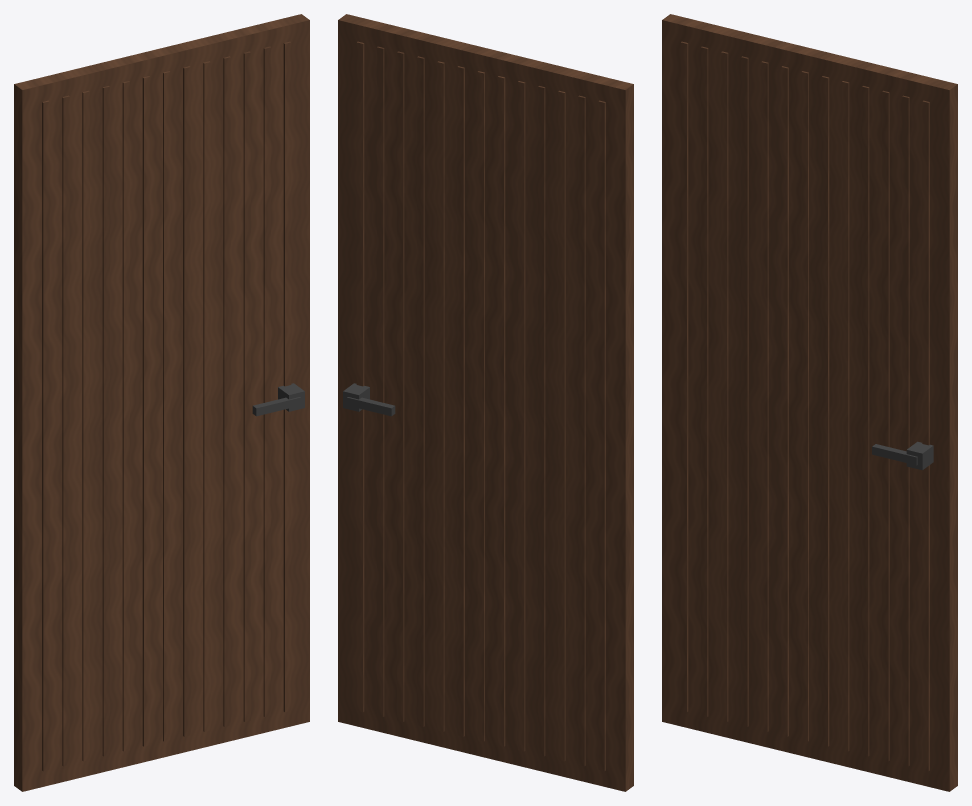
Rendered from mlo_door_ribbed_walnut.glb.
3 renders of one model, left to right at view 1: azimuth 30°, elevation 25°; view 2: azimuth 150°, elevation 25°; view 3: azimuth 330°, elevation 25°, orthographic.
Parts seen in each view (by area): view 1: Door_Ribbed_Walnut; view 2: Door_Ribbed_Walnut; view 3: Door_Ribbed_Walnut.
Part boxes in pixels (<box>): Door_Ribbed_Walnut: <box>14,14,309,791</box>; Door_Ribbed_Walnut: <box>338,14,633,791</box>; Door_Ribbed_Walnut: <box>662,14,957,791</box>.
Bounding box in the file's own units: 0.9 × 2.1 × 0.175.
2 materials, 1 textured.
